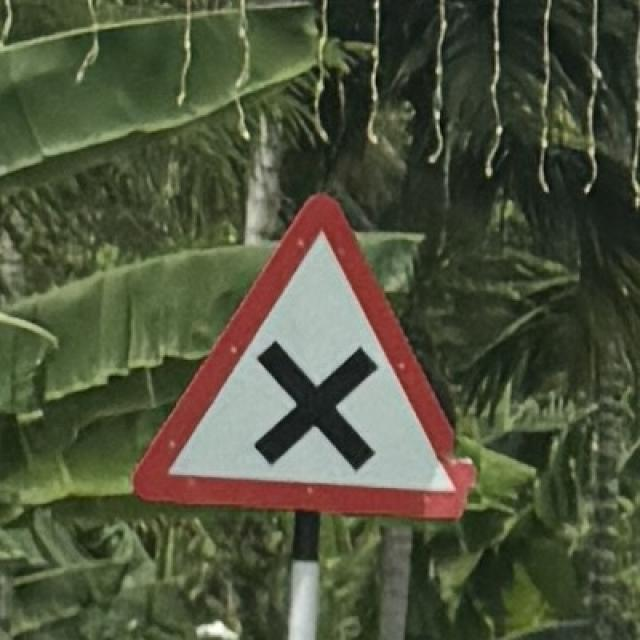CROSS_ROAD: (121, 185, 480, 528)
